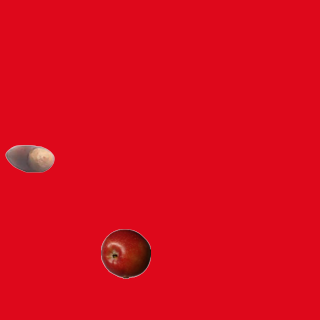Apple Braeburn: (100, 228, 150, 278)
Hazelnut: (4, 133, 54, 183)
